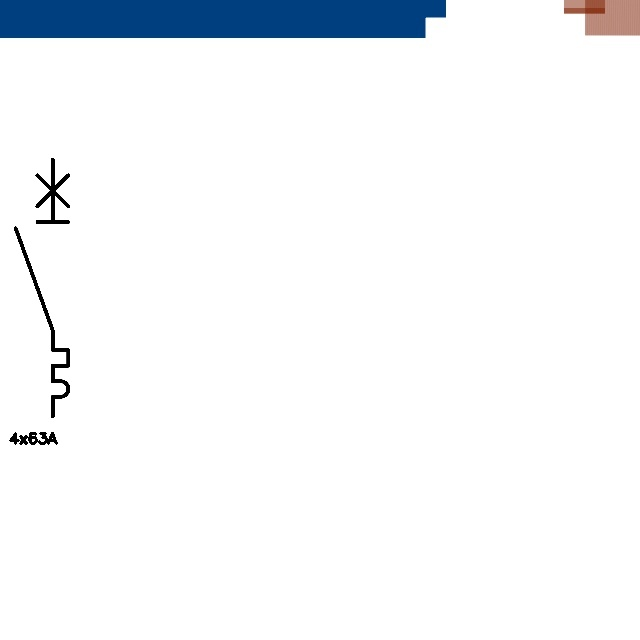interruptor_termomagnetico: (9, 153, 75, 423)
